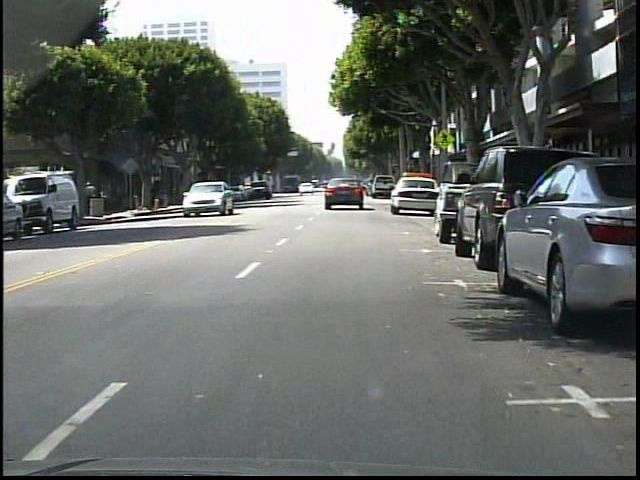person: (83, 179, 102, 219)
